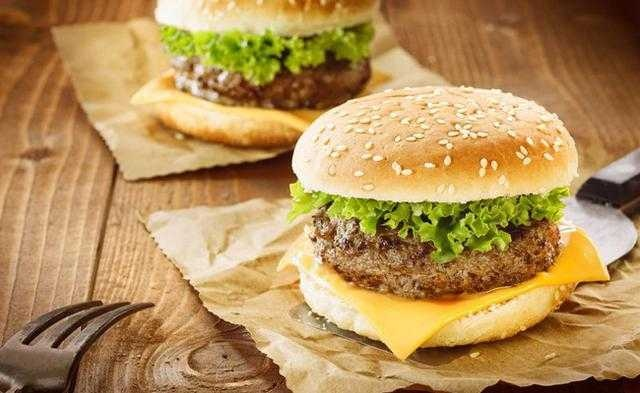hamburger: (277, 82, 597, 336), (129, 2, 389, 136)
